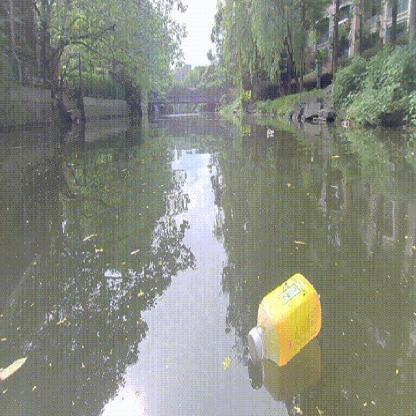plastic bottle: (247, 273, 323, 368)
